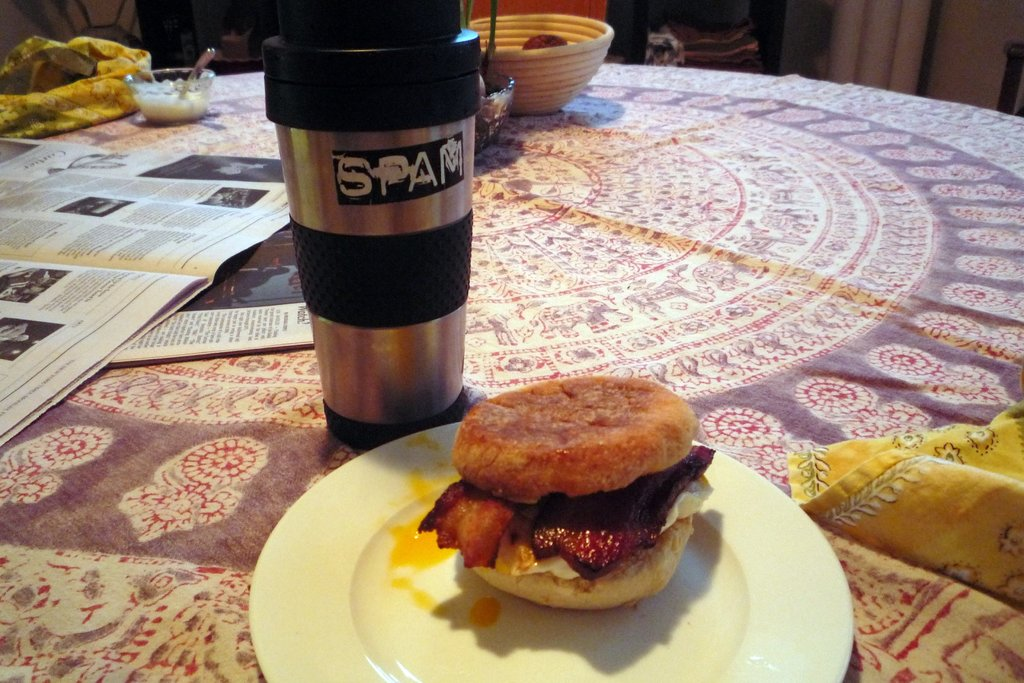Hamburger: (419, 372, 714, 615)
